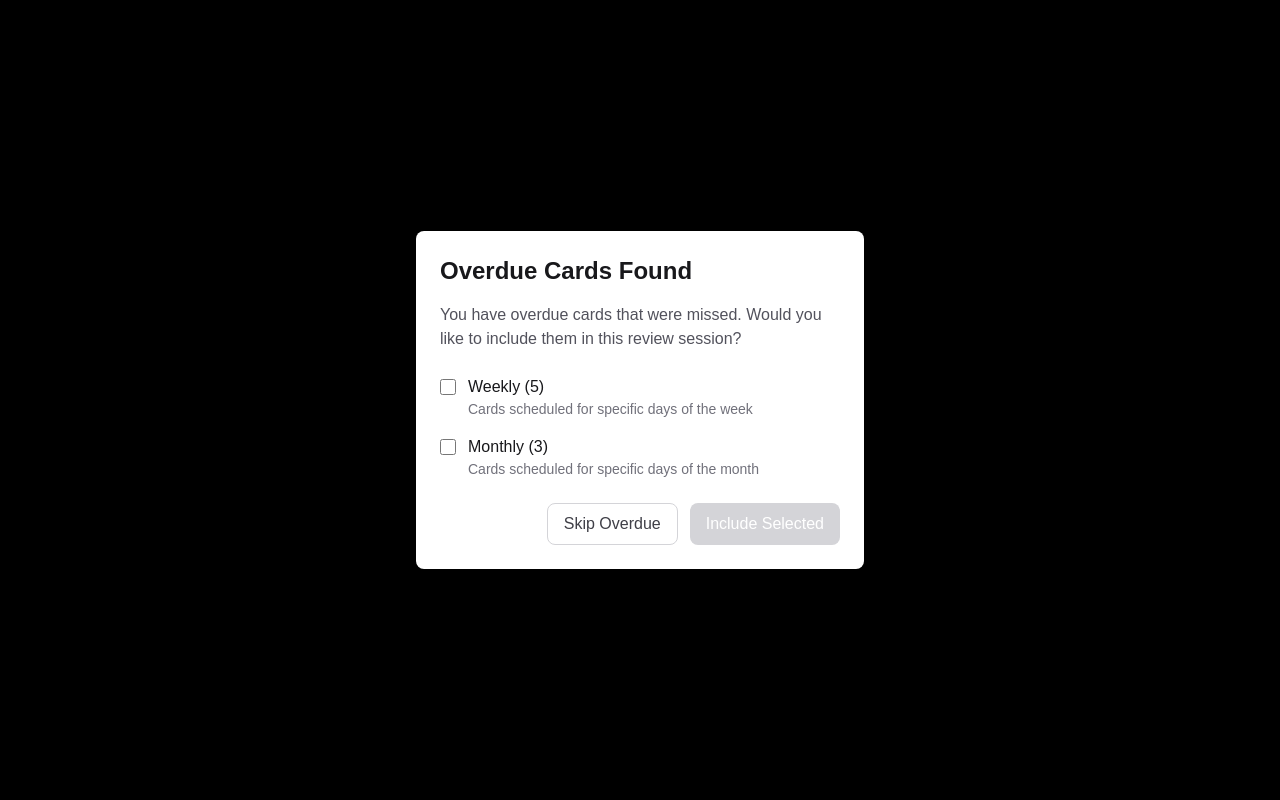
OverdueCardsModal Component › Confirm Action › should enable Include button when at least one checkbox is selected
Expected: the button "Include Selected" is disabled, x1=690 y1=503 x2=840 y2=545
Click the checkbox labelled "Weekly (5) Cards scheduled for specific days of the week". click: (448, 387)
box: x1=440 y1=379 x2=456 y2=395
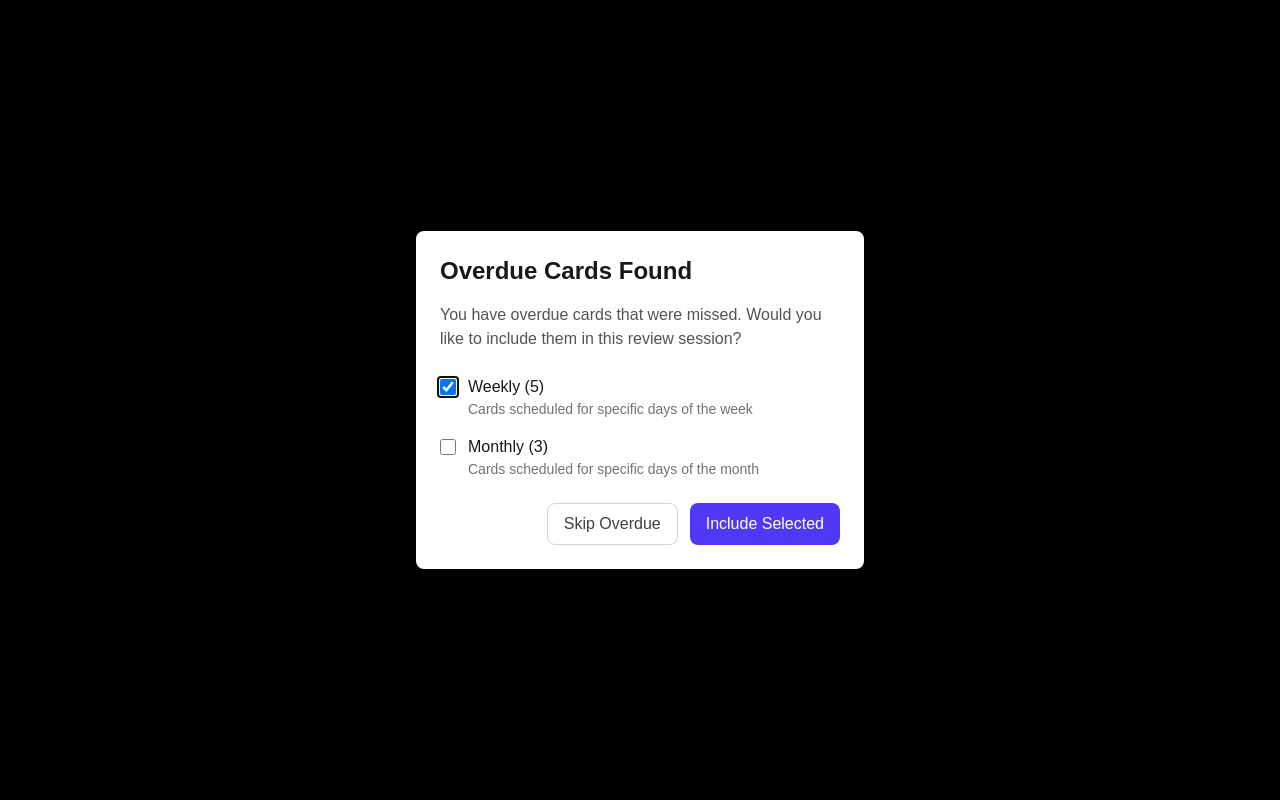
Expected: the button "Include Selected" is enabled, x1=690 y1=503 x2=840 y2=545
